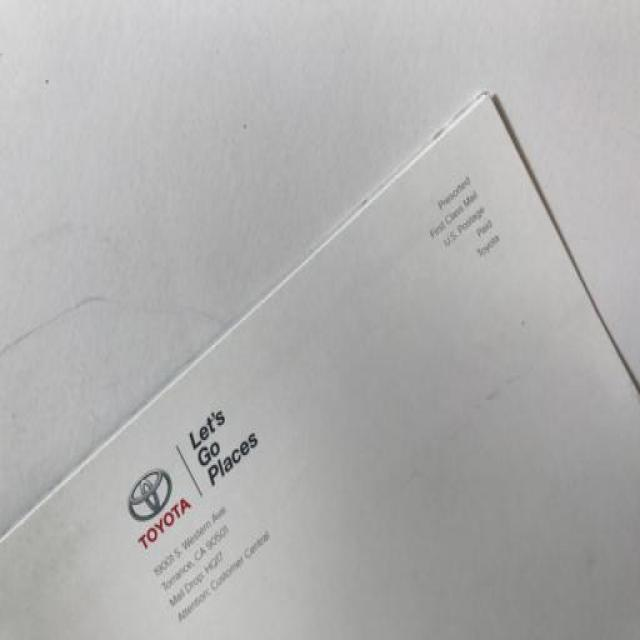paper: (8, 96, 640, 640)
